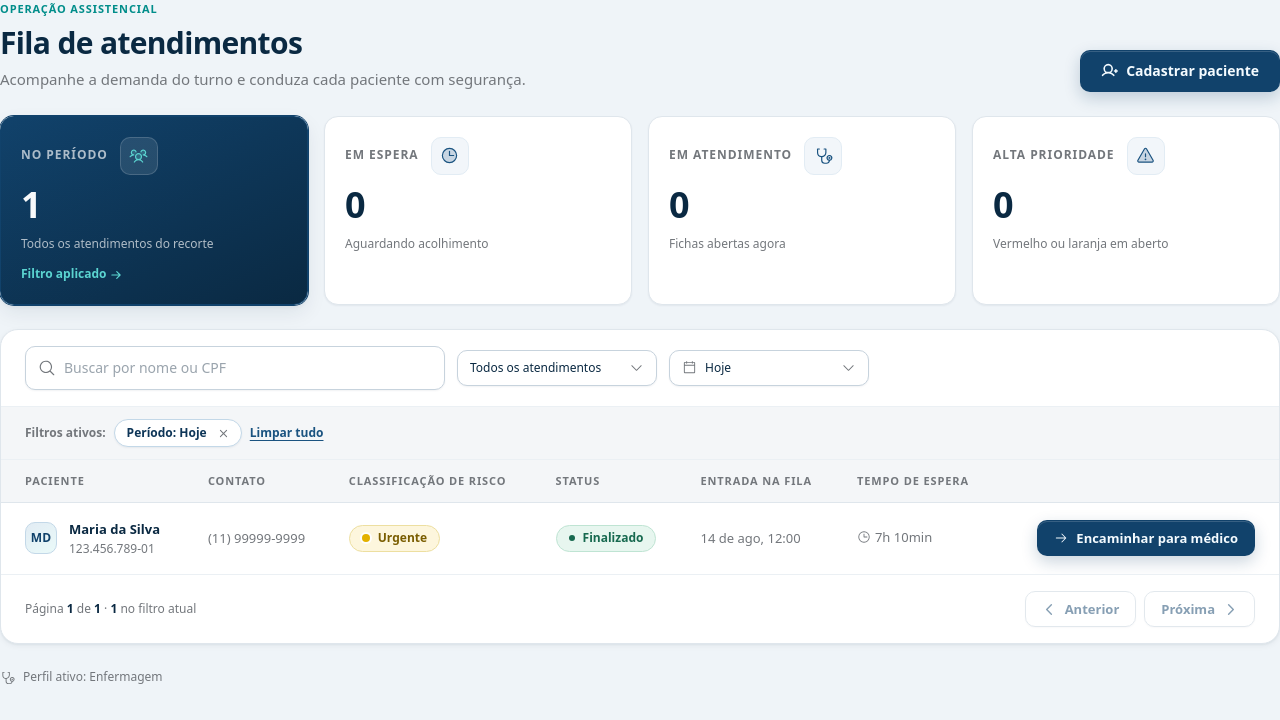
QueuePage › encaminha para o médico um atendimento já finalizado com triagem
The width and height of the screenshot is (1280, 720).
Click the button "Encaminhar para médico" at (1146, 538), box [1037,520,1255,556]
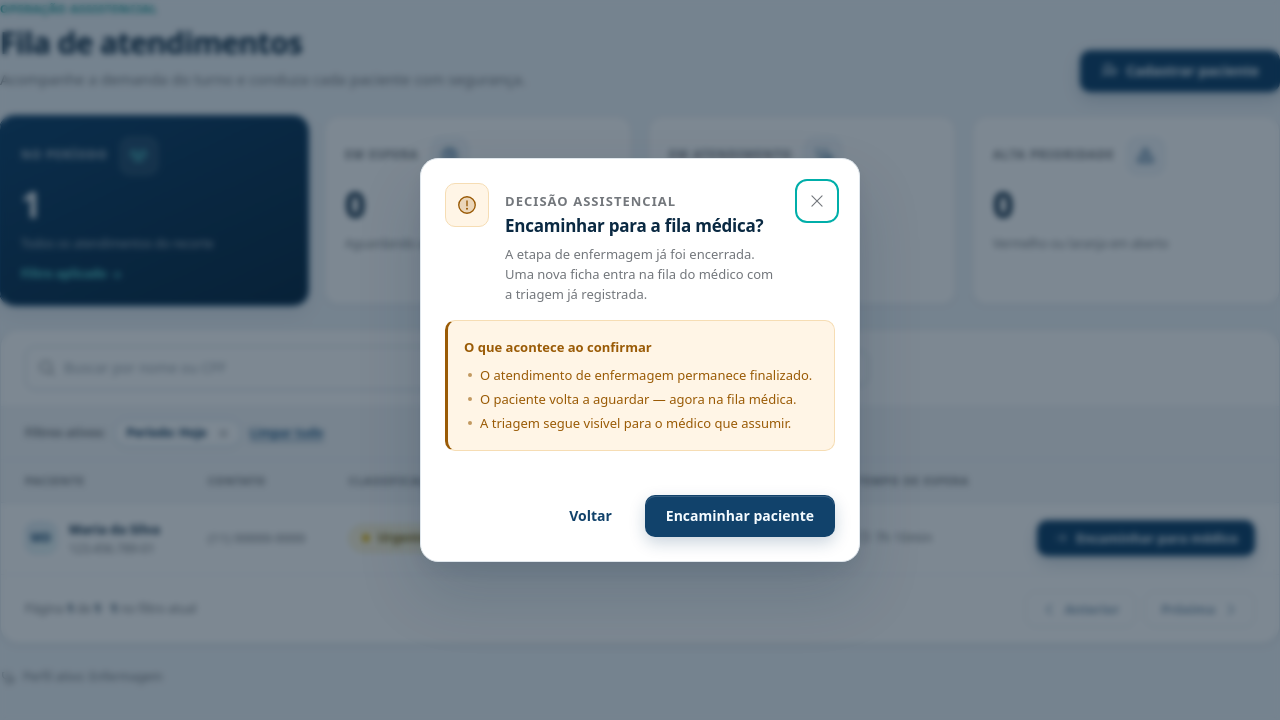
Click the button "Encaminhar paciente" at (740, 516), box [645,495,835,537]
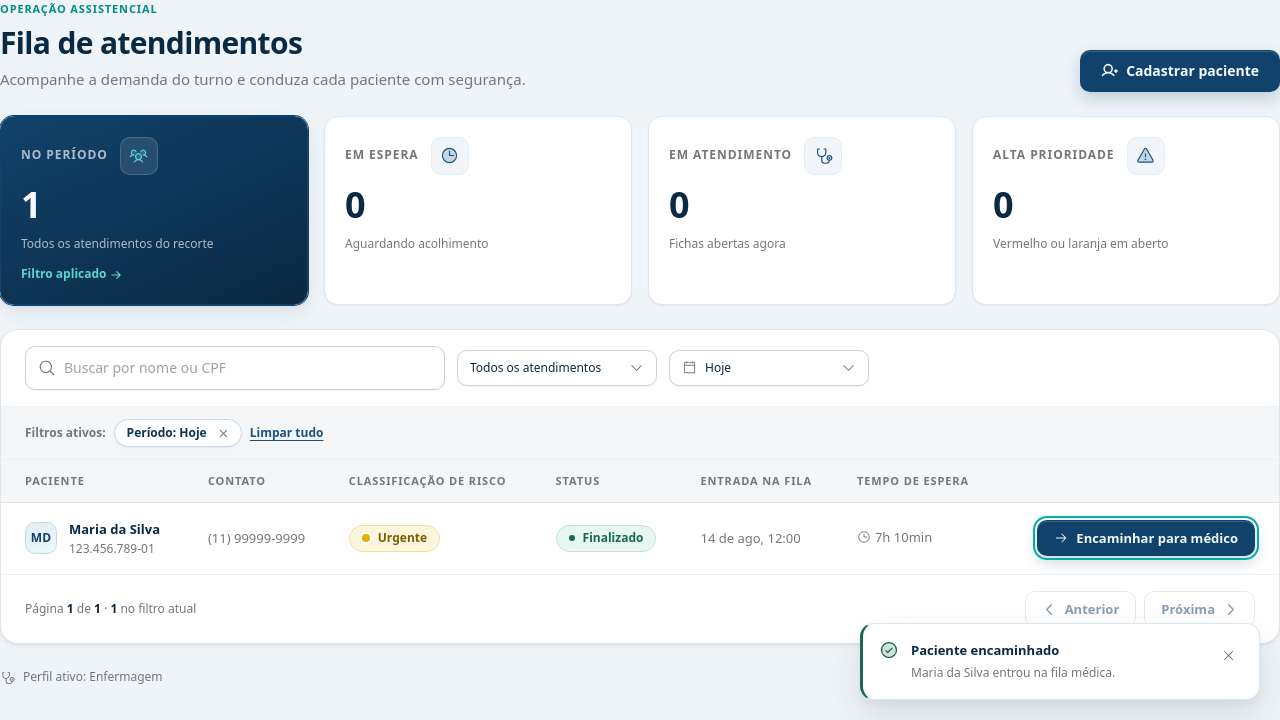
Now the text "Paciente encaminhado" is shown, box [911,641,1059,659]
